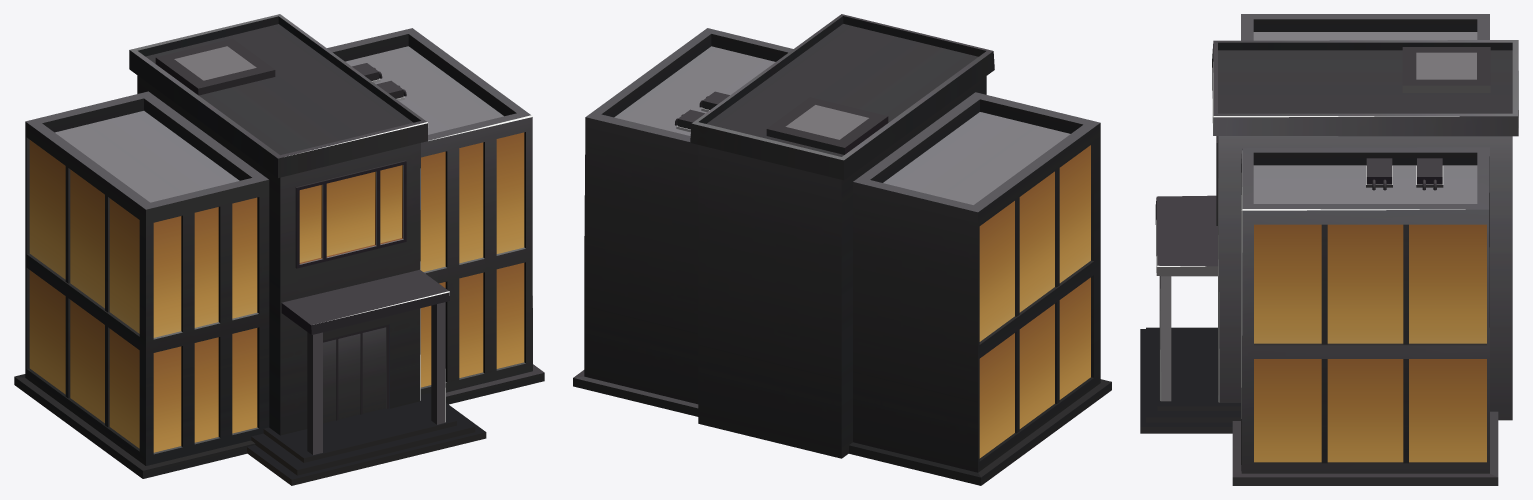
The model's file is SM_Building_18.fbx.
3 views of the same model, side by side, from view 1: azimuth 30°, elevation 25°; view 2: azimuth 150°, elevation 25°; view 3: azimuth 270°, elevation 25° (orthographic). The views are drawn at different scales.
Visible parts, largest first — view 1: SM_Building_18; view 2: SM_Building_18; view 3: SM_Building_18.
Boxes of the visible parts, x1,y1,x2,y2 form: SM_Building_18: (14, 14, 544, 485); SM_Building_18: (573, 14, 1111, 485); SM_Building_18: (1140, 14, 1518, 485).
Bounding box in the file's own units: 1893 × 1338 × 1496.
